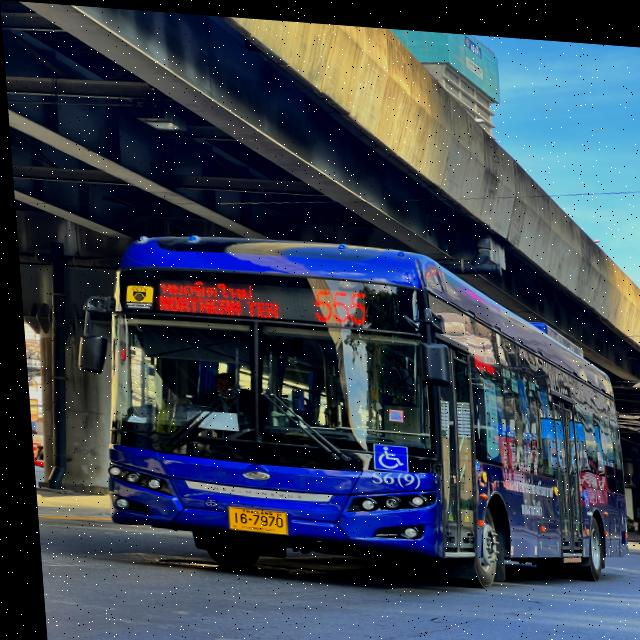Bus-Line-Number: (297, 273, 376, 325)
Destination-Sign-Normal: (148, 270, 284, 324)
TSB-Bus: (86, 225, 625, 590)
